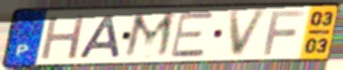A: (75, 14, 123, 60)
E: (168, 11, 215, 60)
F: (261, 9, 309, 57)
H: (38, 13, 89, 62)
M: (121, 11, 179, 61)
V: (227, 8, 271, 59)
